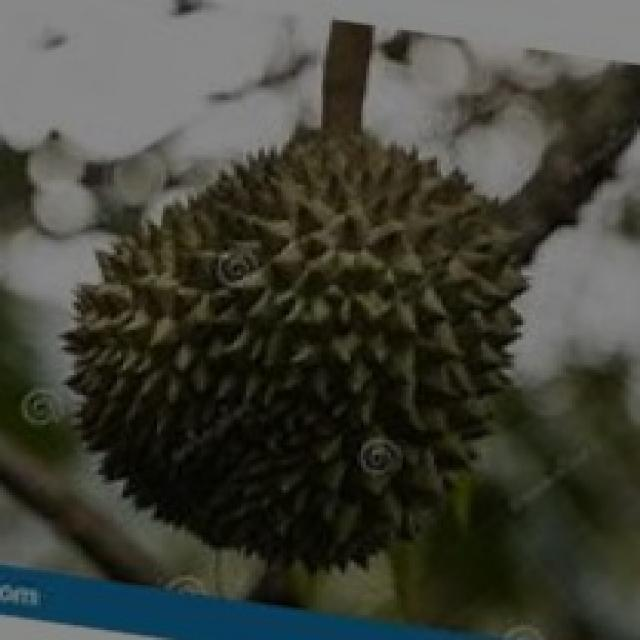fruit: (16, 90, 367, 532)
